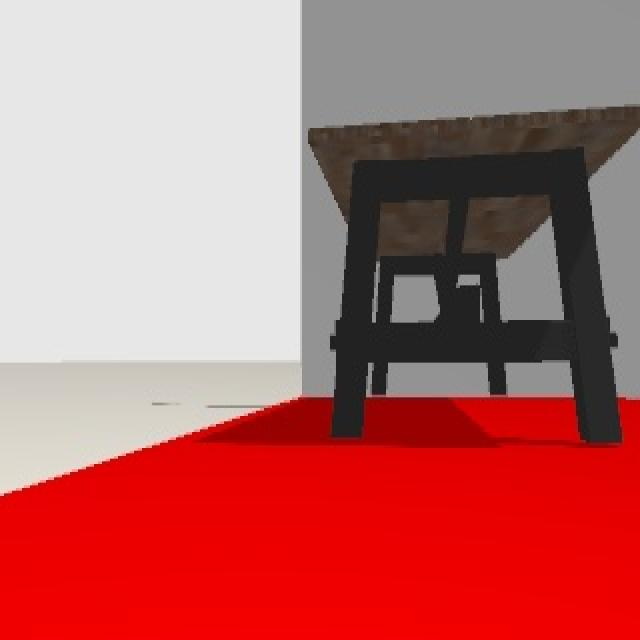dining: (310, 102, 636, 452)
